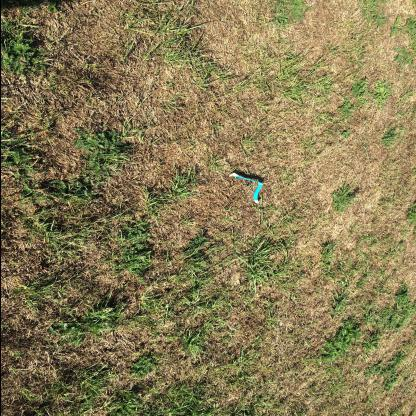diger: (230, 173, 264, 205)
